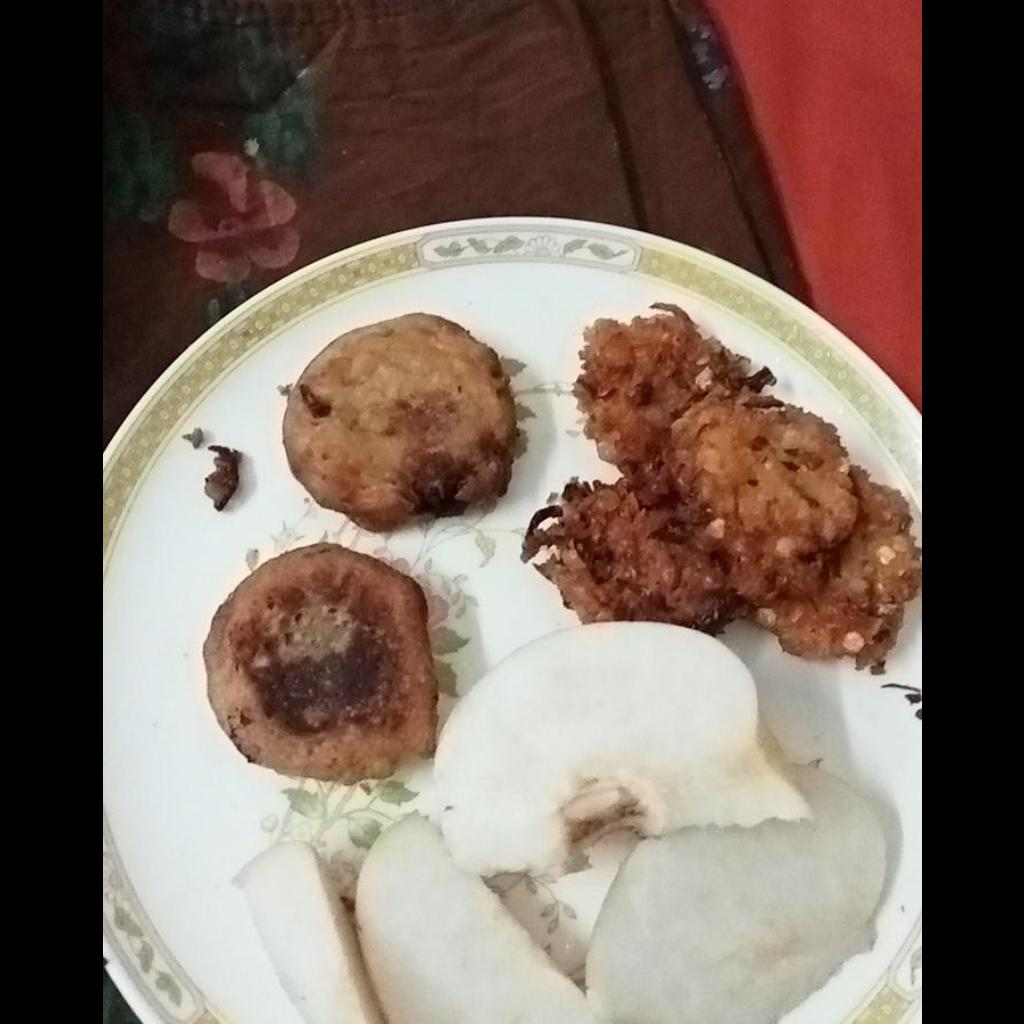apple: (241, 622, 888, 1022)
chop-alu: (205, 319, 511, 785)
peyaju: (528, 309, 920, 670)
